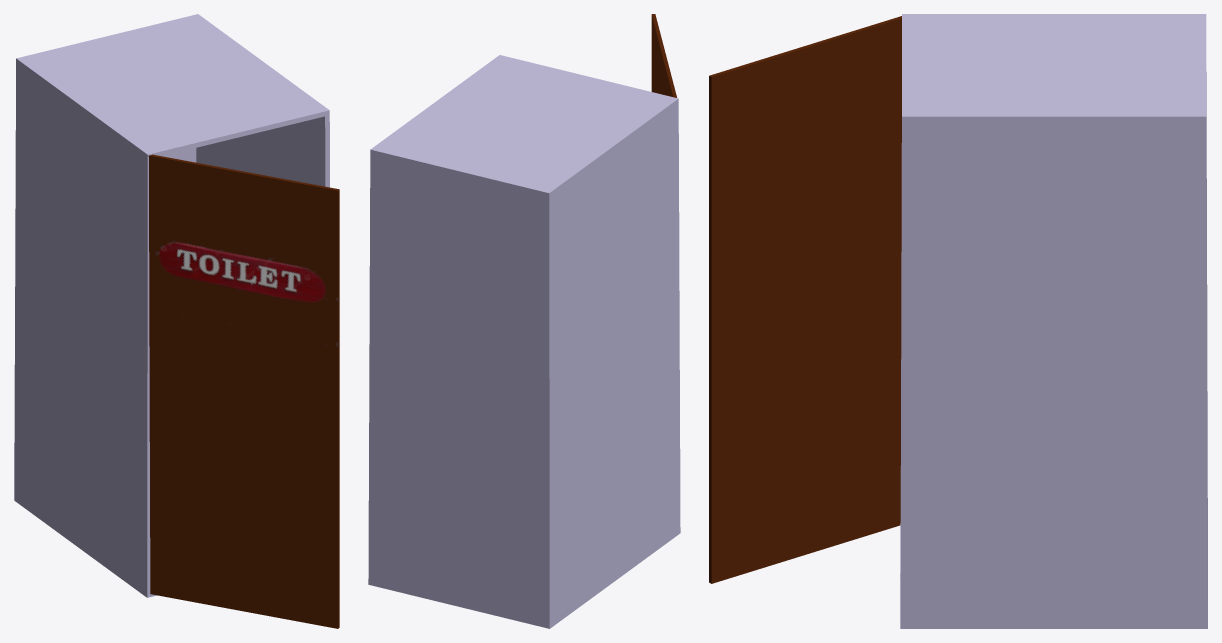
File: toilet.fbx
3 views of the same model, side by side, from view 1: azimuth 30°, elevation 25°; view 2: azimuth 150°, elevation 25°; view 3: azimuth 270°, elevation 25° (orthographic). The views are drawn at different scales.
Parts seen in each view (by area): view 1: room1; view 2: room1; view 3: room1.
Part boxes in pixels (<box>): room1: <box>14,14,339,628</box>; room1: <box>368,14,680,628</box>; room1: <box>709,14,1207,628</box>.
Bounding box in the file's own units: 115 × 263 × 232.
5 materials, 1 textured.
